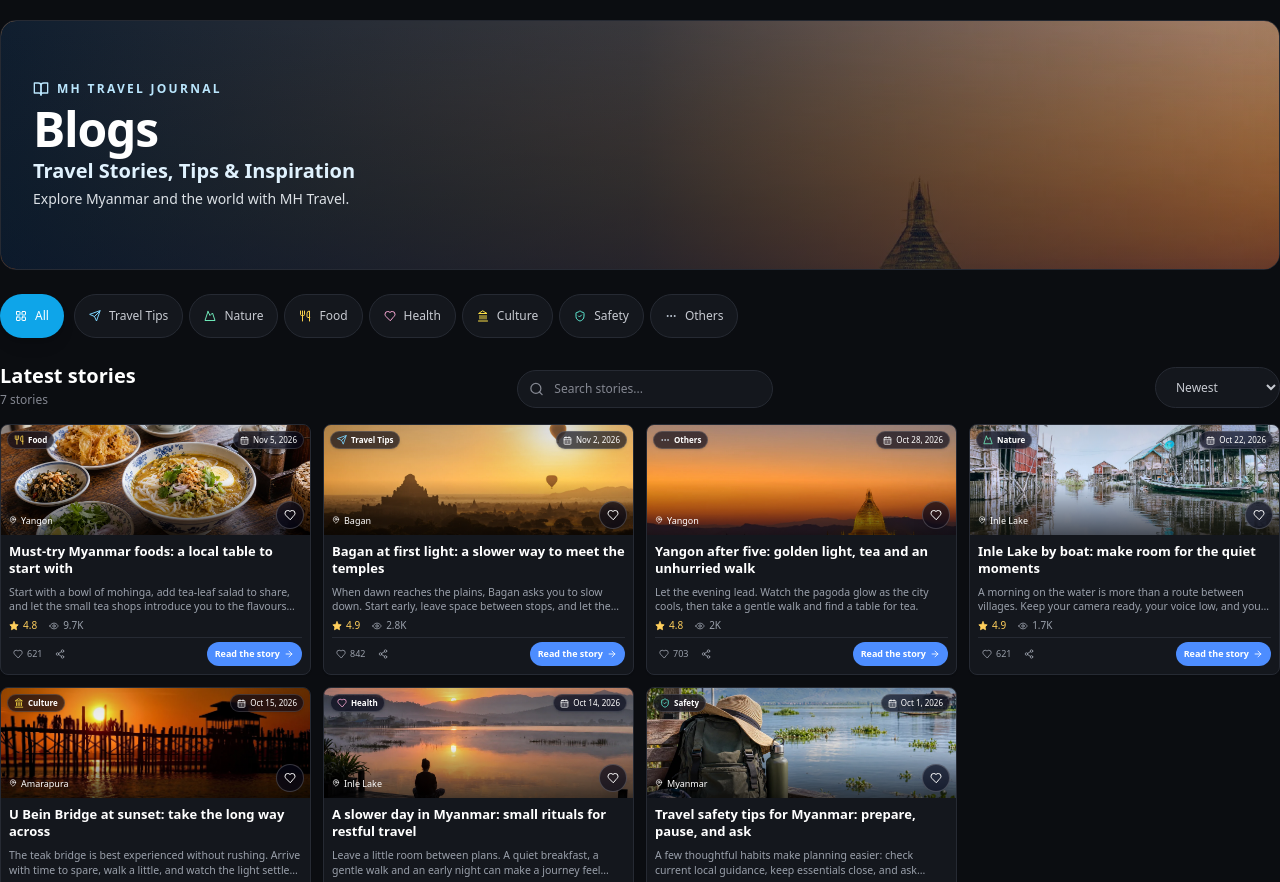
Test: every list reaches an empty state › Blogs says no stories match
This screenshot has width=1280, height=882.
Step 1. Type "zzzznomatchzzzz" into the search field named "Search blog stories" → point(645, 389), box x1=517 y1=370 x2=773 y2=408
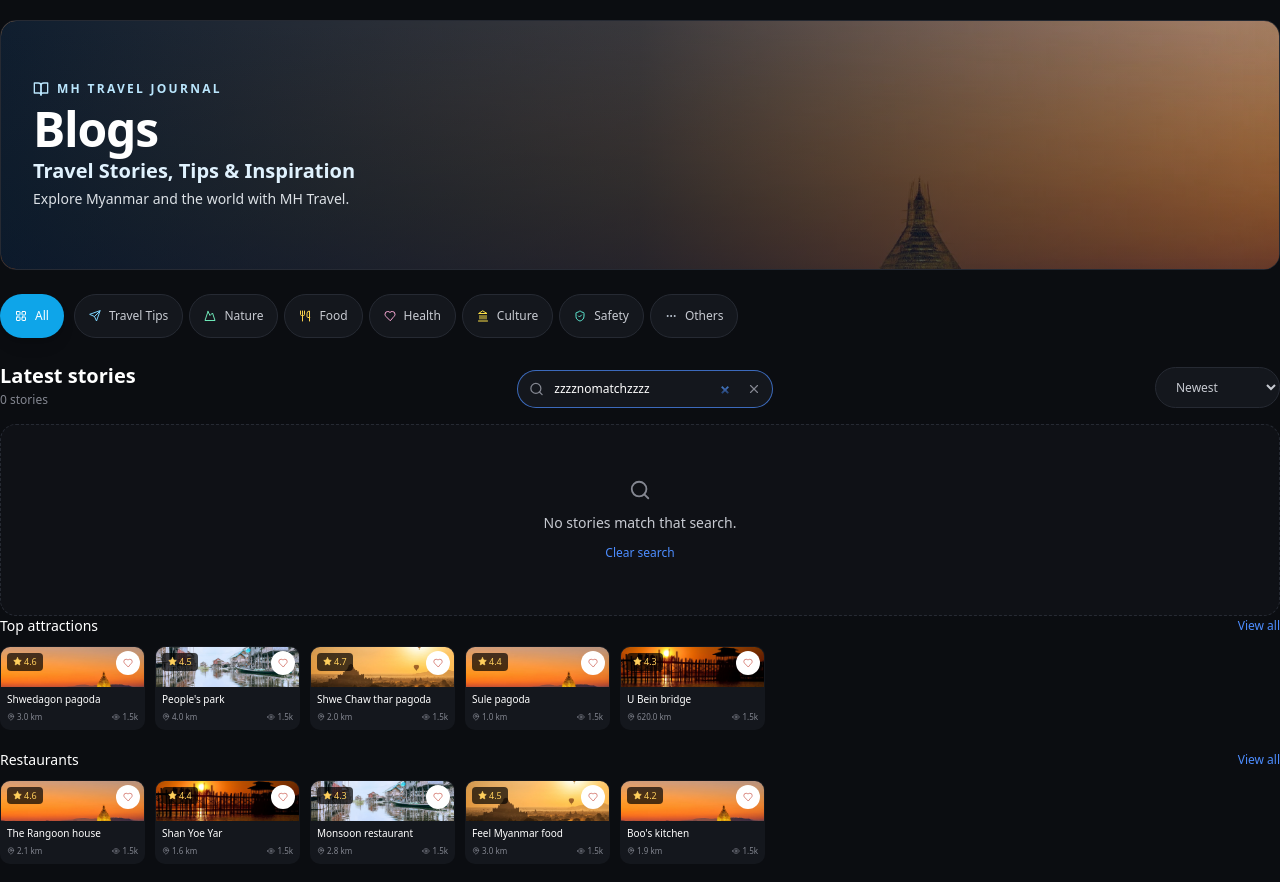
Result: the text "No stories match that search." is shown at x1=544 y1=513 x2=736 y2=533
